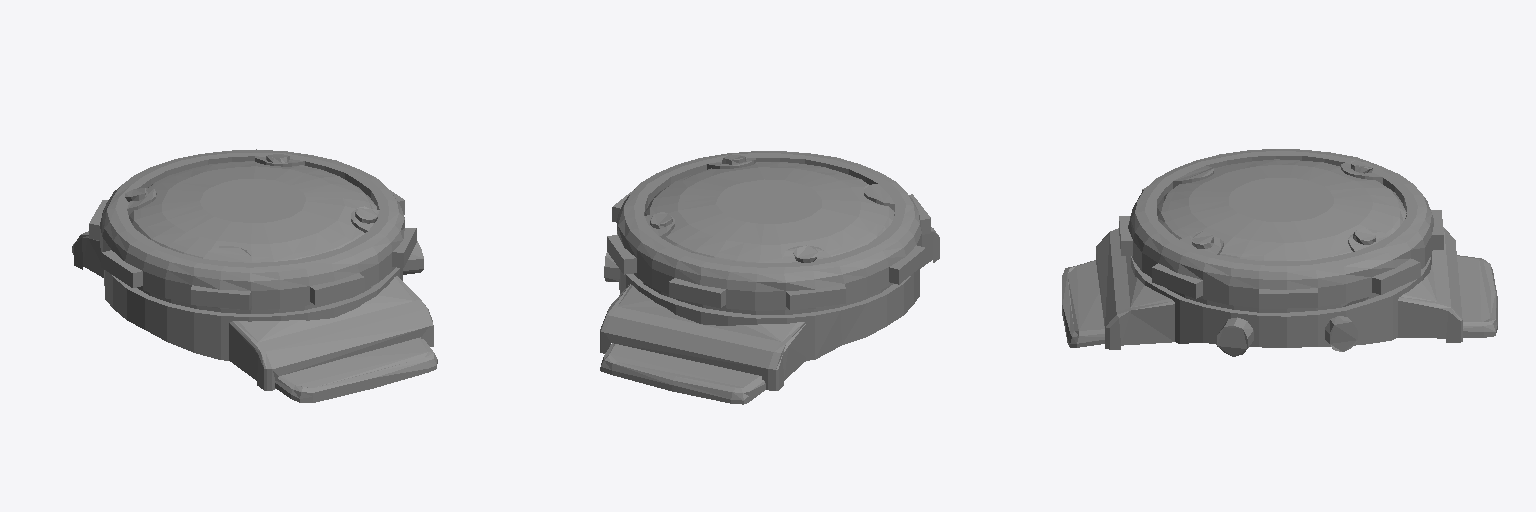
File: timer_detector.obj
3 renders of one model, left to right at view 1: azimuth 30°, elevation 25°; view 2: azimuth 150°, elevation 25°; view 3: azimuth 270°, elevation 25°, orthographic.
Visible parts, largest first — view 1: wpn34_clock, wpn34_kollimator; view 2: wpn34_clock, wpn34_kollimator; view 3: wpn34_clock, wpn34_kollimator.
Boxes of the visible parts, <box> form: wpn34_clock: <box>72,149,437,402</box>; wpn34_kollimator: <box>129,161,376,262</box>; wpn34_clock: <box>600,151,939,404</box>; wpn34_kollimator: <box>645,162,893,262</box>; wpn34_clock: <box>1062,149,1497,356</box>; wpn34_kollimator: <box>1157,159,1406,260</box>.
Size of the model in its own units: 0.0519 by 0.0191 by 0.0684.